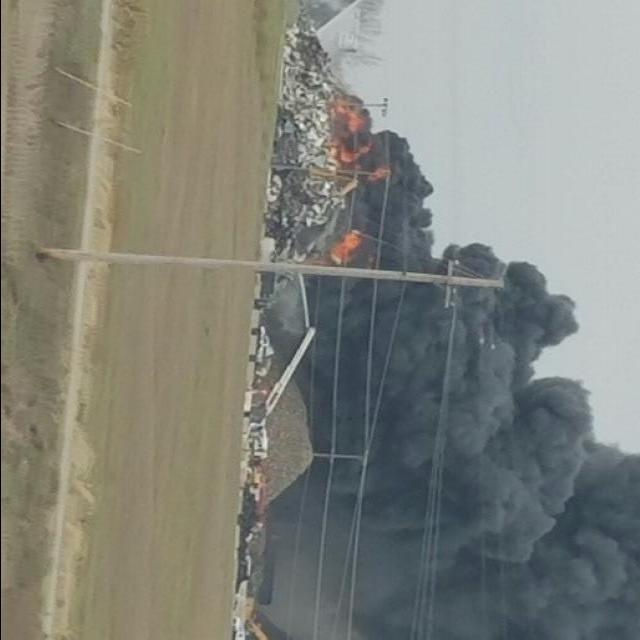Fire: (331, 107, 391, 168), (315, 224, 376, 272)
